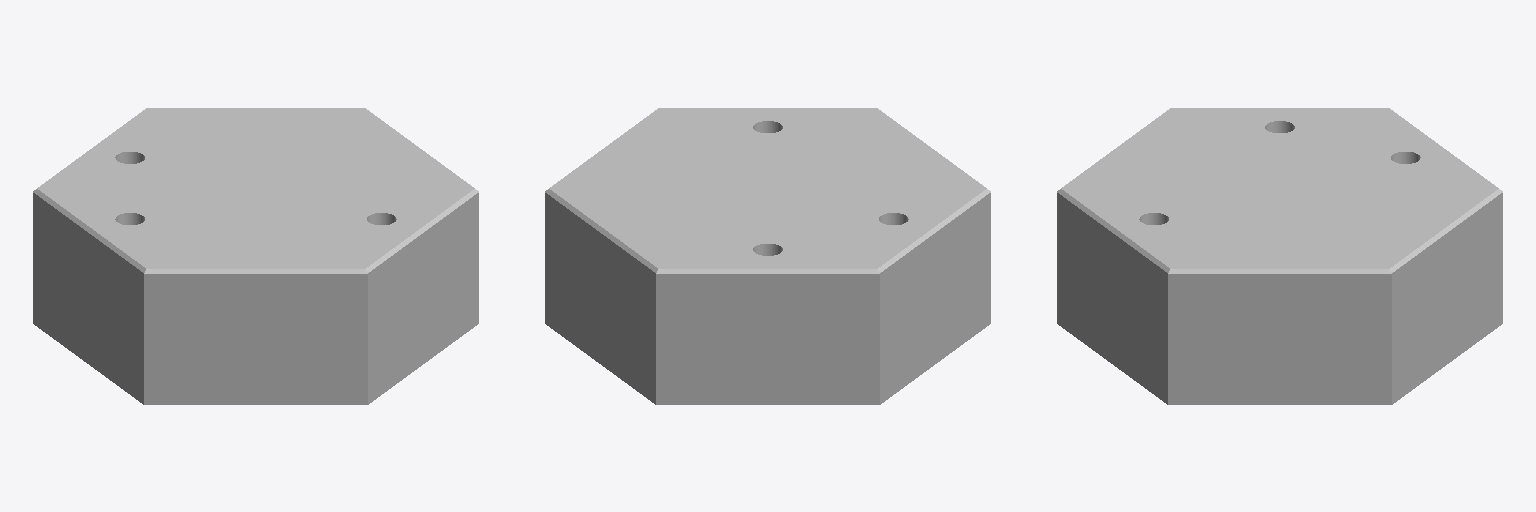
Rendered from lvl1C.obj.
3 renders of one model, left to right at view 1: azimuth 30°, elevation 25°; view 2: azimuth 150°, elevation 25°; view 3: azimuth 270°, elevation 25°, orthographic.
Parts seen in each view (by area): view 1: Lvl1C-3_(Mono-NoMags); view 2: Lvl1C-3_(Mono-NoMags); view 3: Lvl1C-3_(Mono-NoMags).
Boxes of the visible parts, x1,y1,x2,y2 form: Lvl1C-3_(Mono-NoMags): [33, 108, 478, 404]; Lvl1C-3_(Mono-NoMags): [545, 108, 990, 404]; Lvl1C-3_(Mono-NoMags): [1057, 108, 1502, 404].
Size of the model in its own units: 3.13 by 1.21 by 3.62.